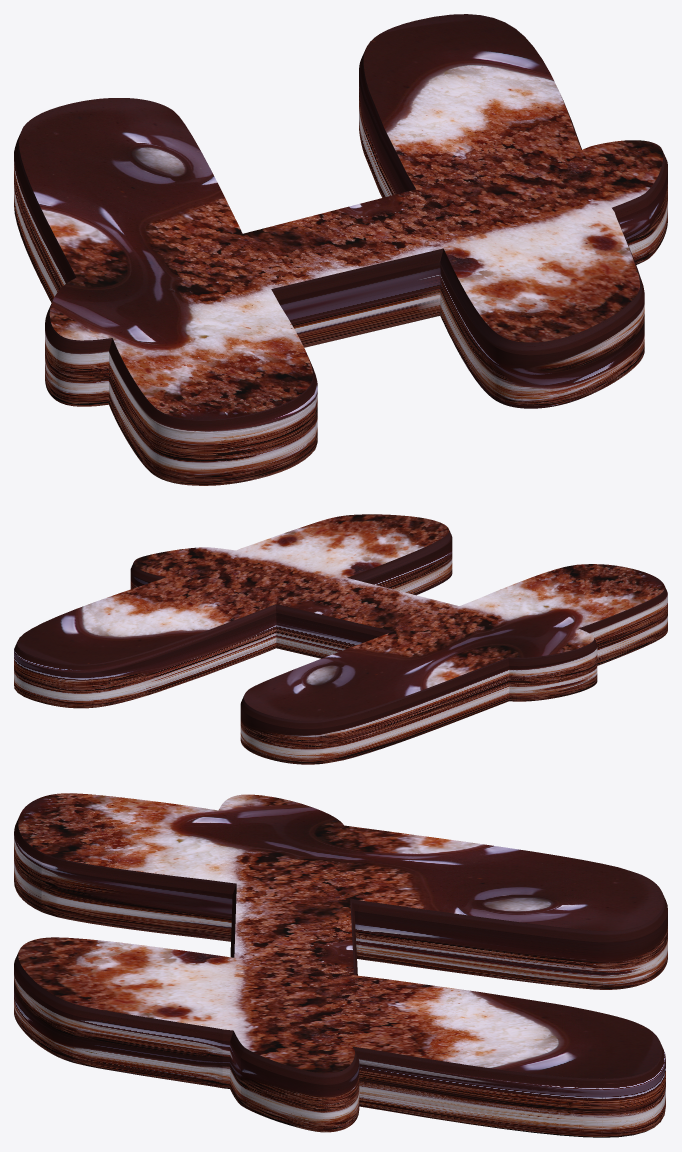
File: myH.FBX
The picture shows the model from 3 angles, top to bottom: view 1: azimuth 30°, elevation 25°; view 2: azimuth 150°, elevation 25°; view 3: azimuth 270°, elevation 25°; orthographic projection. The views are drawn at different scales.
Visible parts, largest first — view 1: myB; view 2: myB; view 3: myB.
Part boxes in pixels (x1,y1,x2,y2): myB: [14, 14, 667, 485]; myB: [14, 514, 667, 764]; myB: [14, 793, 667, 1137].
Bounding box in the file's own units: 65.2 × 6 × 62.3.
1 material, 1 textured.
